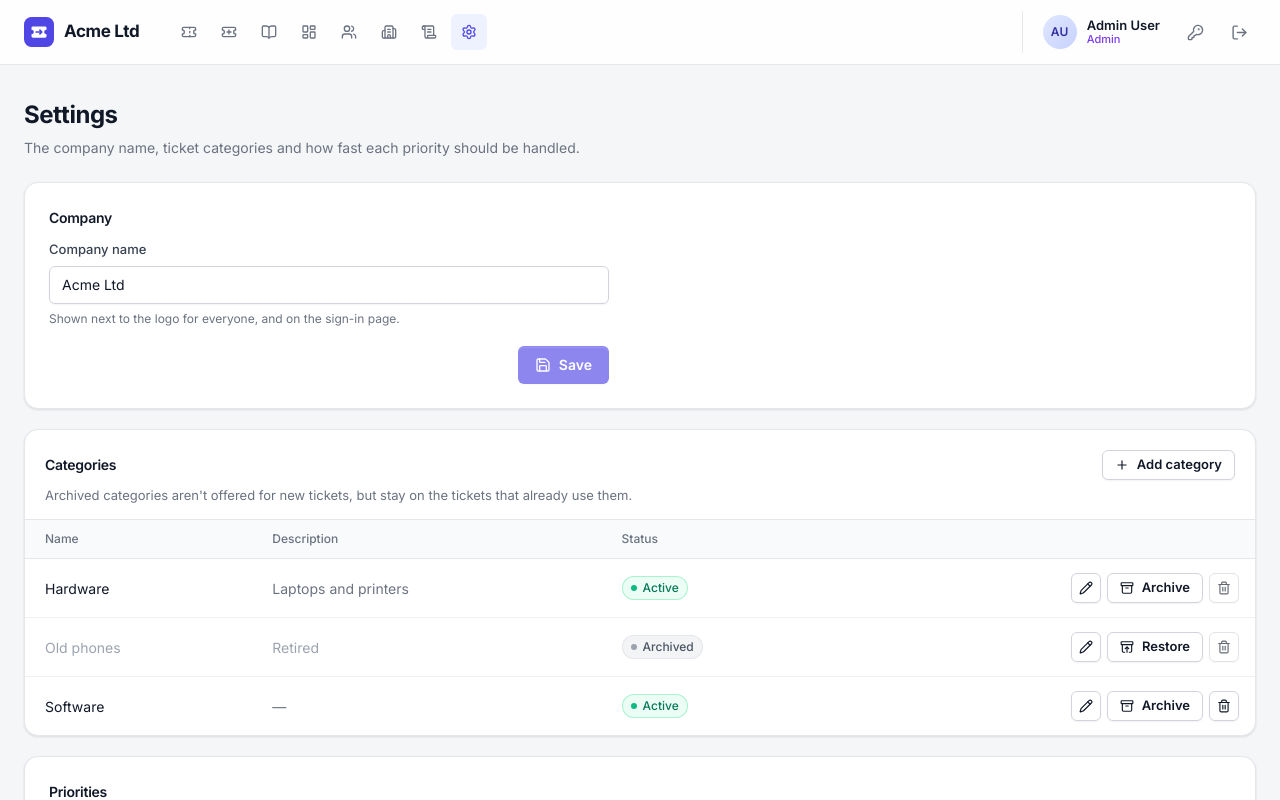
Test: Settings: company name › a failed save that is not about the field is shown as an alert
expect the heading "Settings" is shown: met, box x1=24 y1=100 x2=118 y2=129
expect the element "Categories" is shown: met, box x1=24 y1=428 x2=1256 y2=736
Type " X" into the field labelled "Company name" at (329, 284), box x1=49 y1=266 x2=609 y2=304
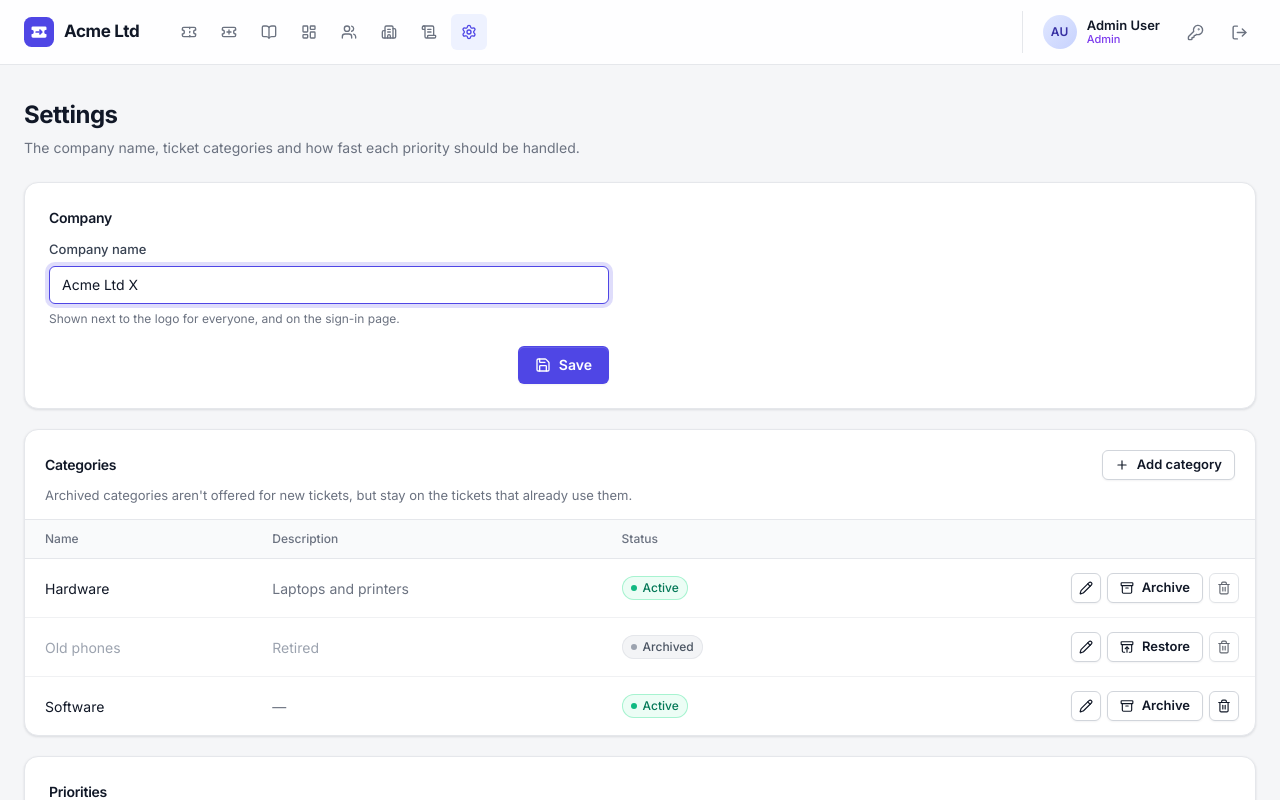
Click the button "Save" at (563, 364), box x1=518 y1=346 x2=609 y2=384
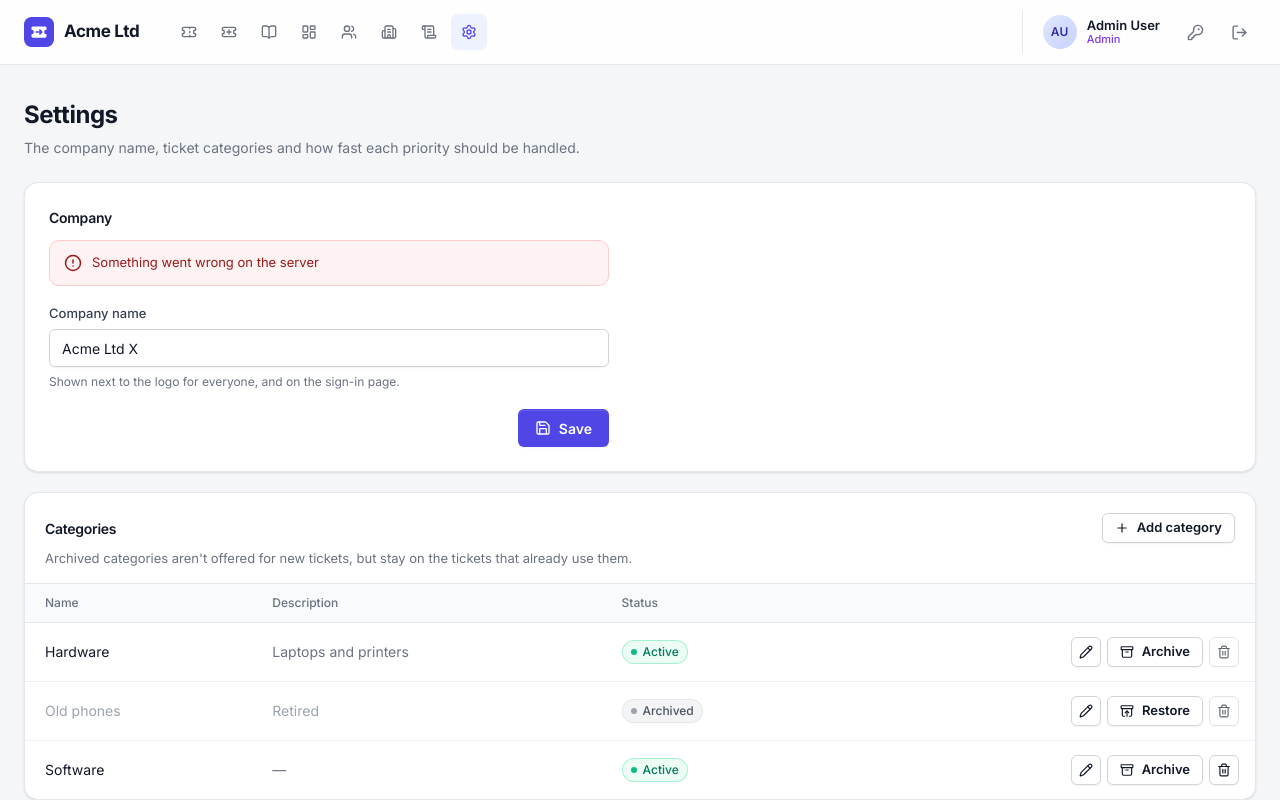
expect the message reads "Something went wrong on the server": met, box x1=92 y1=254 x2=319 y2=270
